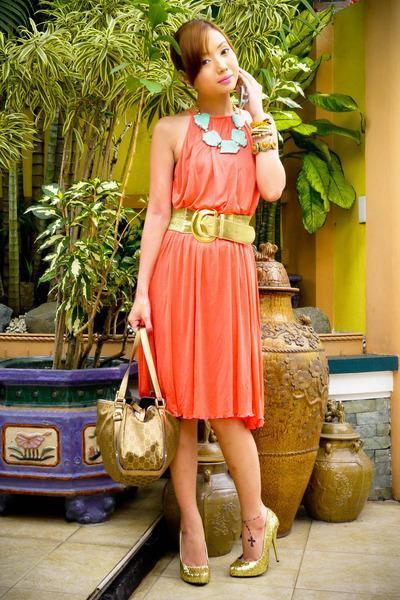dress: (132, 106, 267, 433)
